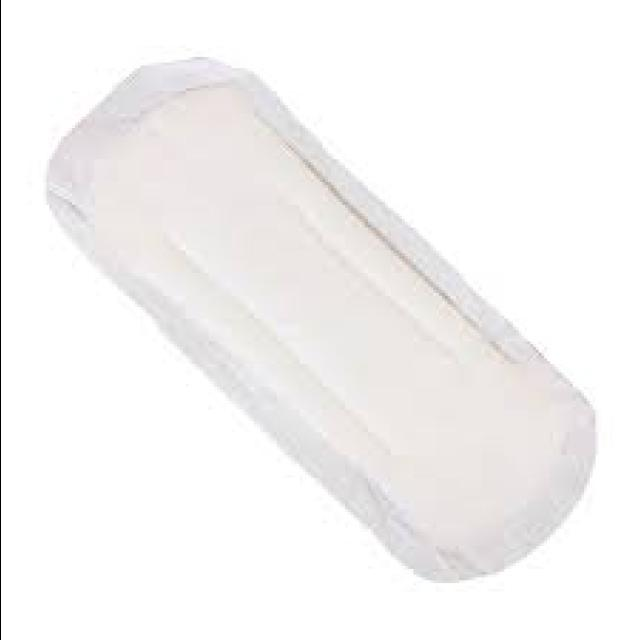napkin: (48, 59, 595, 581)
